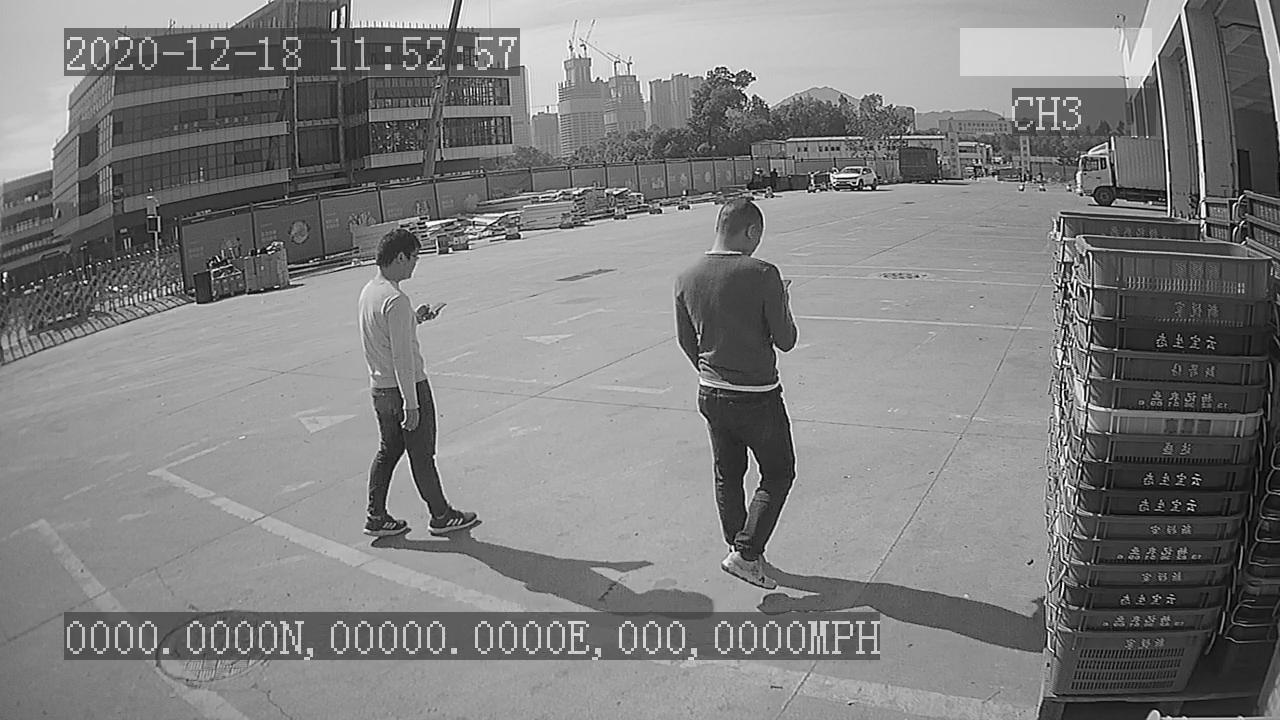person: (668, 185, 808, 595), (351, 224, 483, 542)
